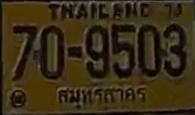0: (40, 26, 64, 78), (137, 24, 160, 76)
3: (162, 23, 186, 75)
5: (111, 24, 135, 76)
7: (12, 24, 37, 80)
9: (86, 24, 108, 77)
SKN: (55, 83, 151, 110)
